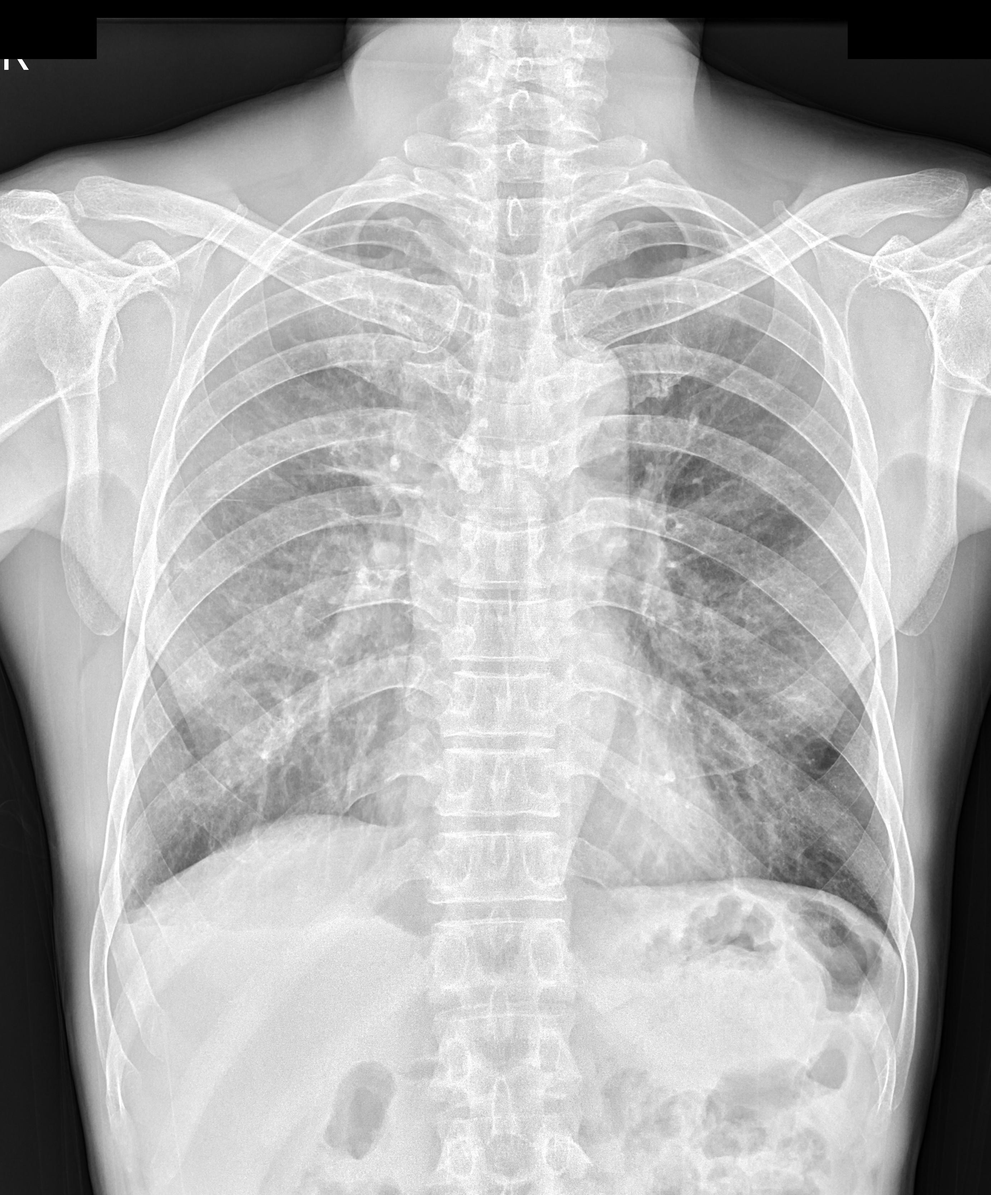Aortic enlargement: (509, 337, 629, 443)
Pleural thickening: (110, 878, 151, 956)
Pulmonary fibrosis: (289, 458, 423, 500), (151, 556, 200, 584), (199, 485, 235, 499)
